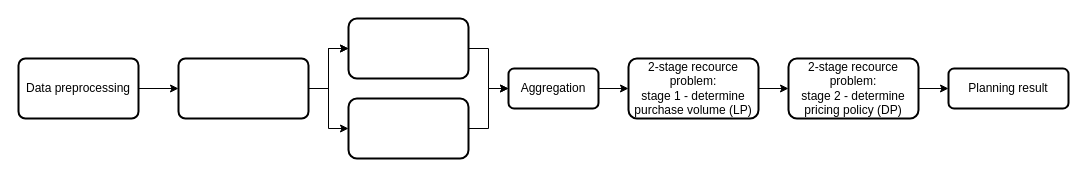
Image size: 1086x176. Some labels were removed from this diagram. The shapes that lost their labels are listed below. From the top down, each one's centre as x and y in pixels, then its label:
At (x=408, y=48): "Estimate demand distribution: ARMA / ARIMA".
At (x=243, y=88): "Find the probability of each scenario: clustering".
At (x=408, y=128): "Estimate demand distribution: Linear Regression".
